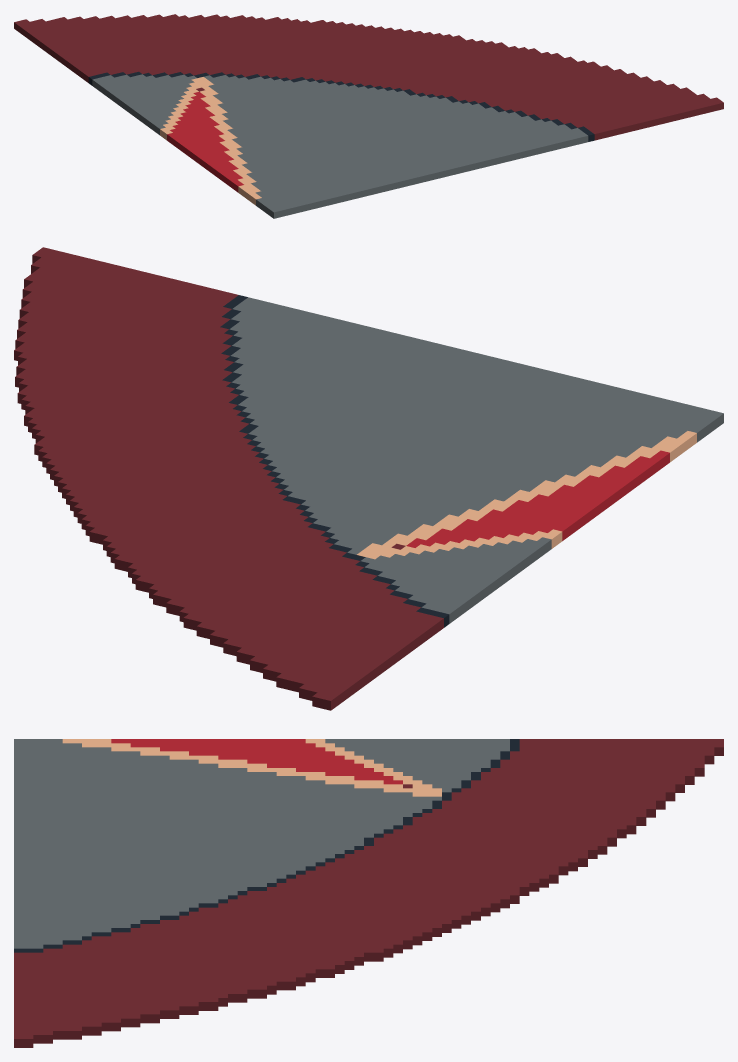
The model's file is monument_circle_corner_overtile.obj.
The picture shows the model from 3 angles, top to bottom: view 1: azimuth 30°, elevation 25°; view 2: azimuth 150°, elevation 25°; view 3: azimuth 270°, elevation 25°; orthographic projection. The views are drawn at different scales.
Bounding box in the file's own units: 7.3 × 0.1 × 7.3.
1 material, 1 textured.
